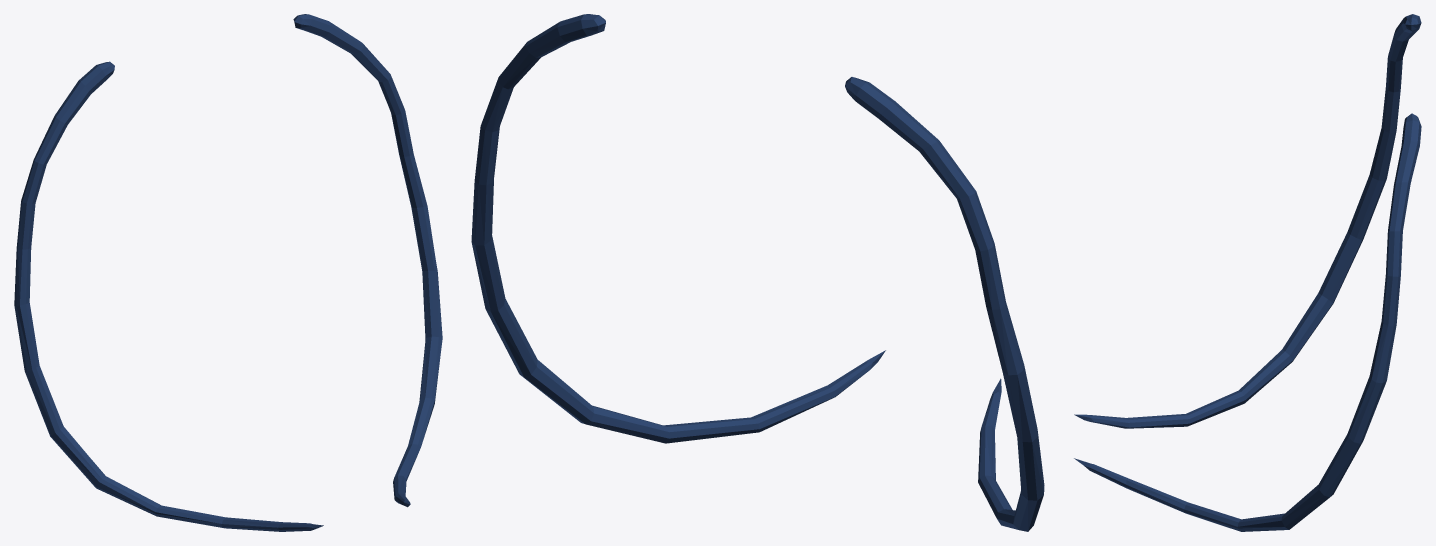
File: Vena Glútea Inferior.FBX
3 renders of one model, left to right at view 1: azimuth 30°, elevation 25°; view 2: azimuth 150°, elevation 25°; view 3: azimuth 270°, elevation 25°, orthographic. The views are drawn at different scales.
Parts seen in each view (by area): view 1: CS_Veins; view 2: CS_Veins; view 3: CS_Veins.
Boxes of the visible parts, x1=… form: CS_Veins: x1=14, y1=14, x2=442, y2=531; CS_Veins: x1=471, y1=14, x2=1044, y2=531; CS_Veins: x1=1074, y1=14, x2=1421, y2=531.
Bounding box in the file's own units: 373 × 337 × 264.
